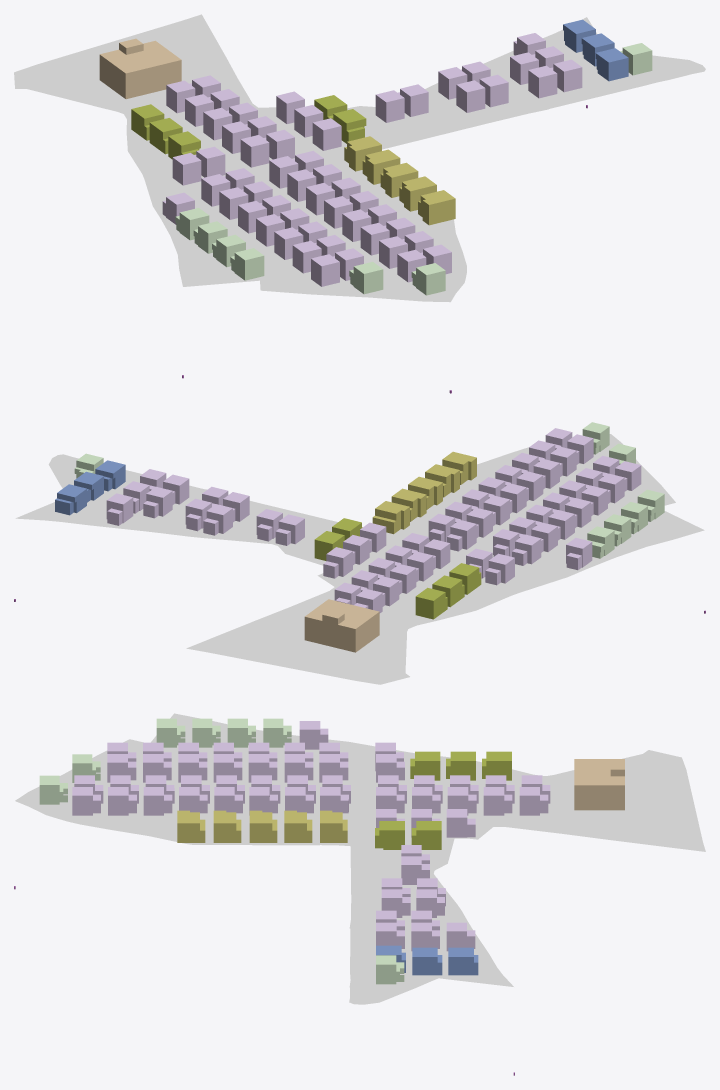
File: Master_Glb_fixed.glb
The picture shows the model from 3 angles, top to bottom: view 1: azimuth 30°, elevation 25°; view 2: azimuth 150°, elevation 25°; view 3: azimuth 270°, elevation 25°; orthographic projection. The views are drawn at different scales.
Parts seen in each view (by area): view 1: Landscape, Clubhouse, V27-02; view 2: Landscape, Clubhouse, V27-02 (×5), V16-02 (×2); view 3: Landscape, Clubhouse.
Part boxes in pixels (bbox=[...]): Landscape: bbox=[14, 14, 705, 302]; Clubhouse: bbox=[99, 38, 181, 99]; V27-02: bbox=[420, 190, 455, 212]; Landscape: bbox=[15, 434, 704, 684]; Clubhouse: bbox=[304, 599, 379, 652]; V27-02 (×5): bbox=[375, 451, 476, 520]; V16-02 (×2): bbox=[314, 531, 445, 607]; Landscape: bbox=[15, 713, 705, 1004]; Clubhouse: bbox=[574, 759, 624, 810].
Size of the model in its own units: 376 by 71.92 by 377.
